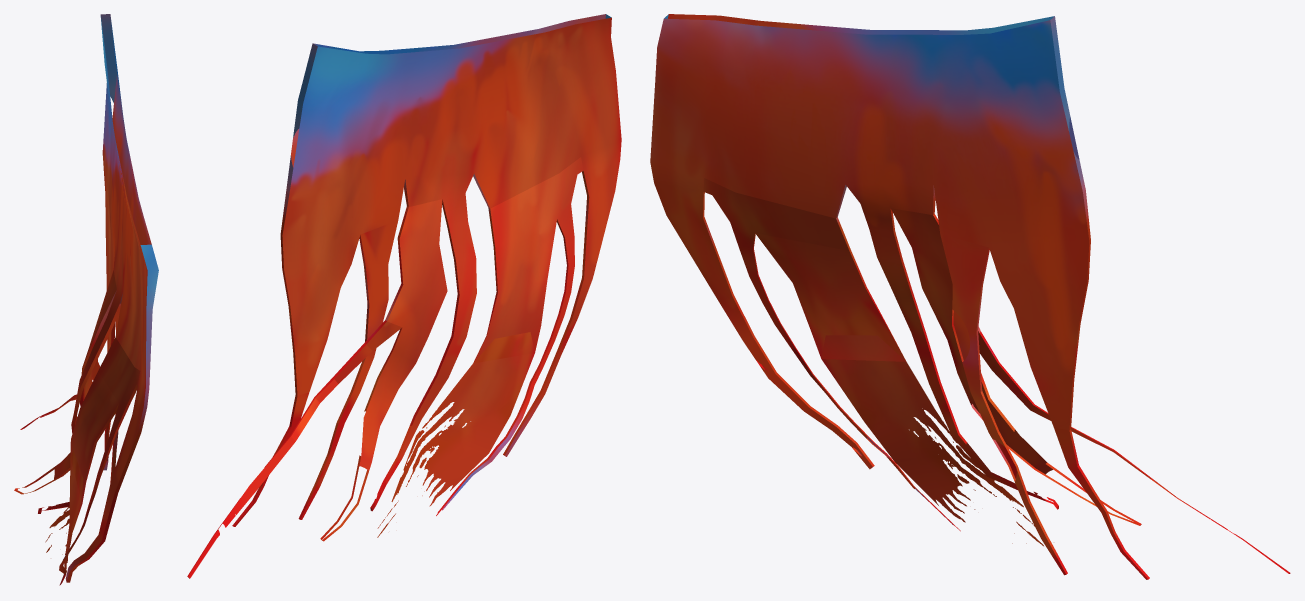
File: fin_down.obj
3 views of the same model, side by side, from view 1: azimuth 30°, elevation 25°; view 2: azimuth 150°, elevation 25°; view 3: azimuth 270°, elevation 25° (orthographic). The views are drawn at different scales.
Visible parts, largest first — view 1: BottomFin_Fin_down_0; view 2: BottomFin_Fin_down_0; view 3: BottomFin_Fin_down_0.
Boxes of the visible parts, bbox=[...] form: BottomFin_Fin_down_0: bbox=[14, 14, 158, 585]; BottomFin_Fin_down_0: bbox=[187, 14, 621, 578]; BottomFin_Fin_down_0: bbox=[650, 14, 1290, 579].
Size of the model in its own units: 0.2216 by 0.607 by 0.5955.
